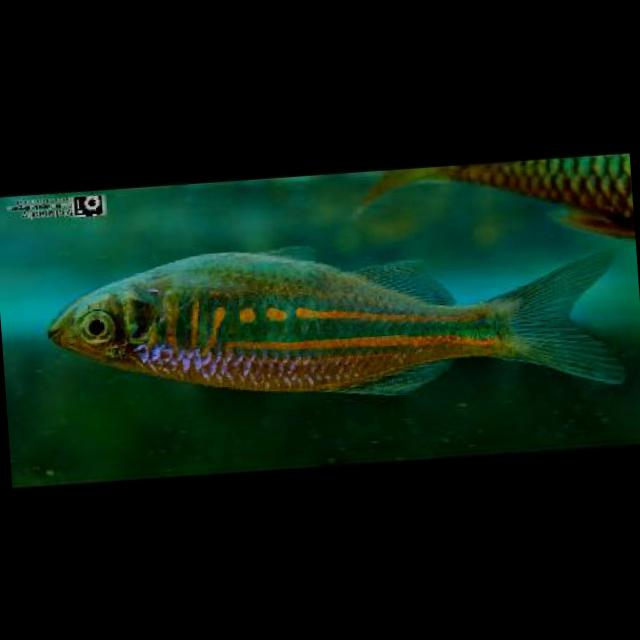ZebraFish: (32, 217, 627, 434)
